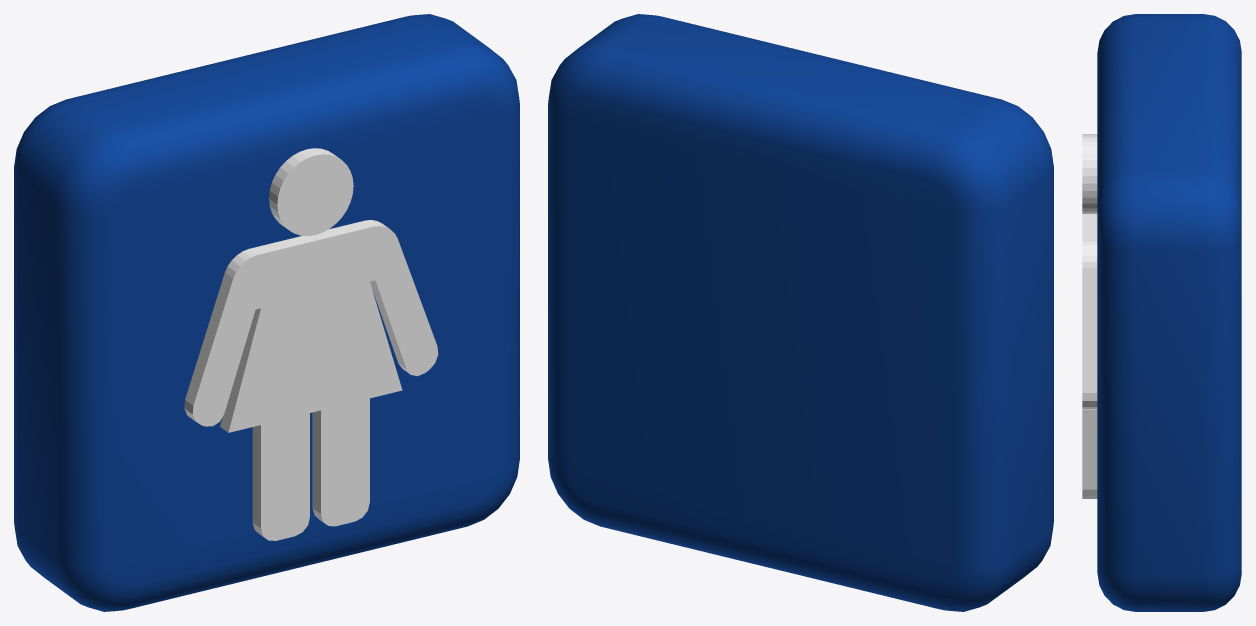
The model's file is womens_room.gltf.
The picture shows the model from 3 angles, left to right: view 1: azimuth 30°, elevation 25°; view 2: azimuth 150°, elevation 25°; view 3: azimuth 270°, elevation 25°; orthographic projection. The views are drawn at different scales.
Parts seen in each view (by area): view 1: Cube.132; view 2: Cube.132; view 3: Cube.132.
Boxes of the visible parts, x1,y1,x2,y2 form: Cube.132: [14, 14, 519, 611]; Cube.132: [548, 14, 1053, 611]; Cube.132: [1082, 14, 1241, 611].
Bounding box in the file's own units: 2.2 × 2.2 × 0.7298.
Materials: 1 (1 with a texture image).
